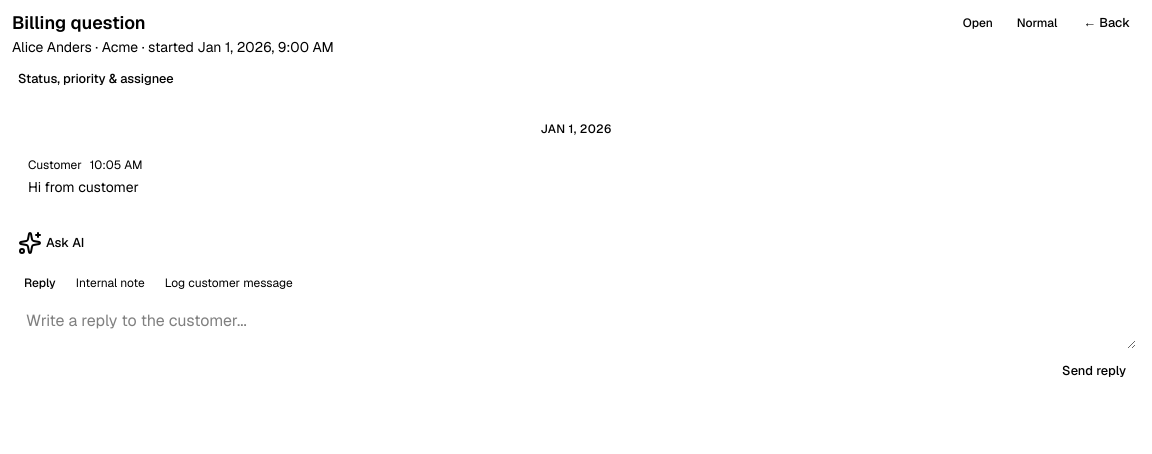
ConversationPane › AI suggestion in the single compose box › Ask AI pre-fills the ONE compose box (no second text box) and adds no message
Click the button "Ask AI": [51, 243] box [8,229,94,257]
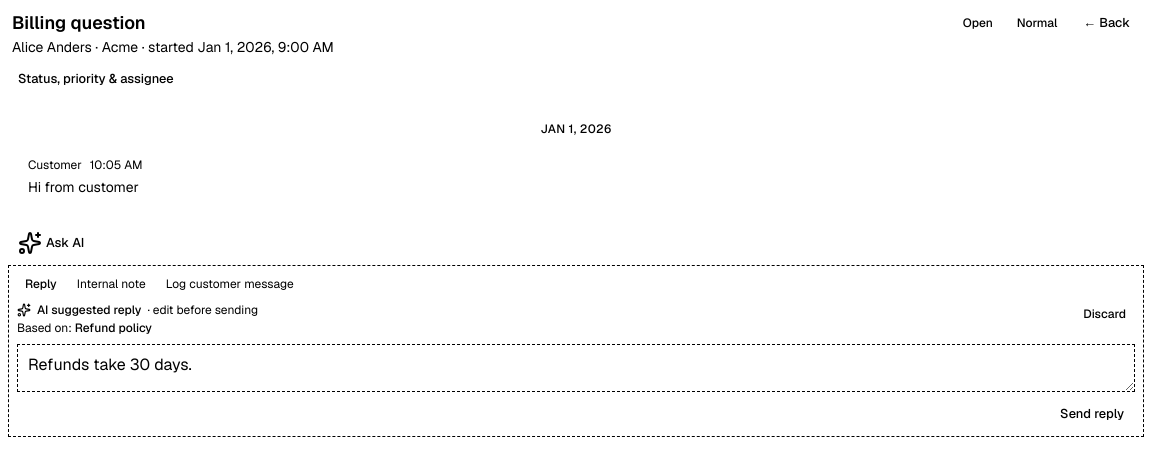
Expected: the number of text boxes is 1, [17,344,1135,392]
Expected: the message "AI suggested reply" shows "Based on: Refund policy", [17,302,1135,336]
Expected: the number of buttons "Send reply" is 1, [1049,400,1135,428]
